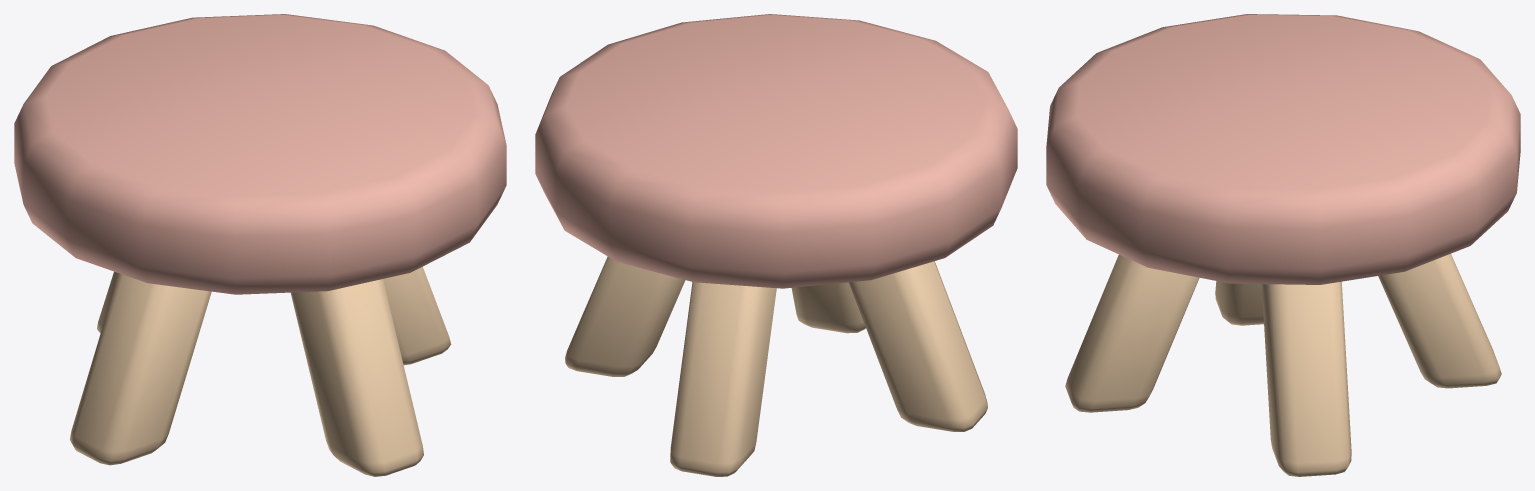
File: Chair_01.fbx
3 views of the same model, side by side, from view 1: azimuth 30°, elevation 25°; view 2: azimuth 150°, elevation 25°; view 3: azimuth 270°, elevation 25° (orthographic). The views are drawn at different scales.
Visible parts, largest first — view 1: 立方体.012; view 2: 立方体.012; view 3: 立方体.012.
Boxes of the visible parts, <box> form: 立方体.012: <box>14,14,506,476</box>; 立方体.012: <box>535,14,1017,476</box>; 立方体.012: <box>1046,14,1520,476</box>.
Bounding box in the file's own units: 43.03 × 28.6 × 43.03.
